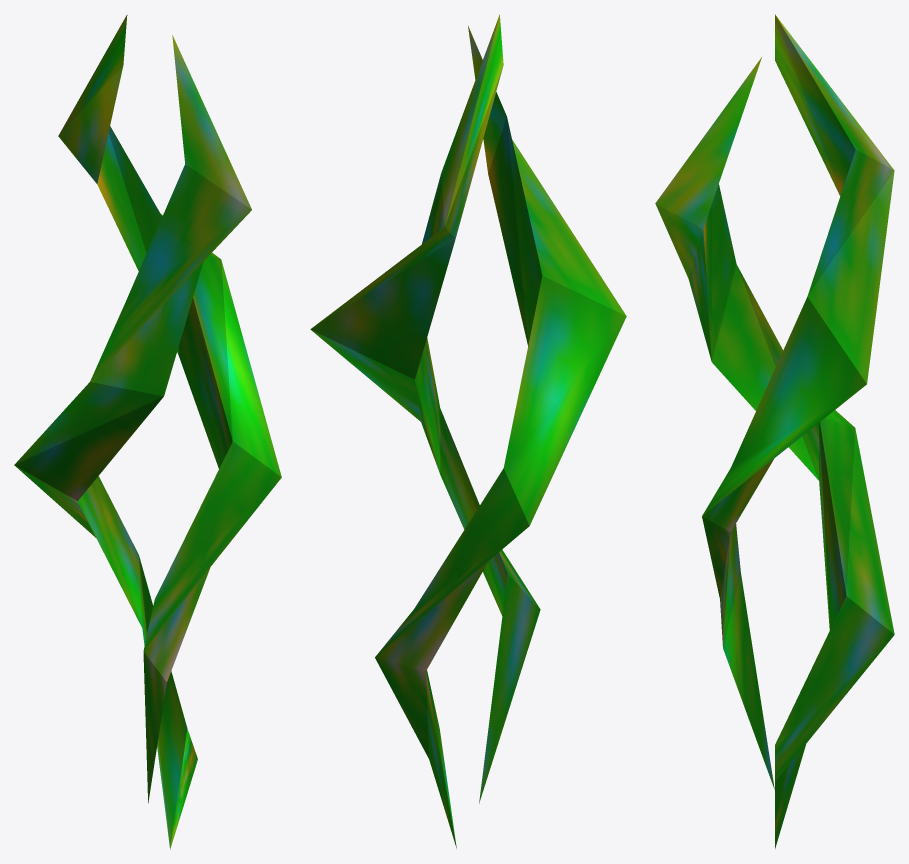
Rendered from resonatorResourceXM-LRes.obj.
3 views of the same model, side by side, from view 1: azimuth 30°, elevation 25°; view 2: azimuth 150°, elevation 25°; view 3: azimuth 270°, elevation 25° (orthographic). The views are drawn at different scales.
Parts seen in each view (by area): view 1: pHelix1 group1, group1 pHelix2; view 2: pHelix1 group1, group1 pHelix2; view 3: pHelix1 group1, group1 pHelix2.
Part boxes in pixels (x1,y1,x2,y2): pHelix1 group1: (14,35,251,849); group1 pHelix2: (58,14,281,803); pHelix1 group1: (375,26,626,848); group1 pHelix2: (310,14,540,803); pHelix1 group1: (655,57,894,848); group1 pHelix2: (702,14,894,789).
Bounding box in the file's own units: 0.373 × 1.35 × 0.3583.
Materials: 1 (1 with a texture image).
